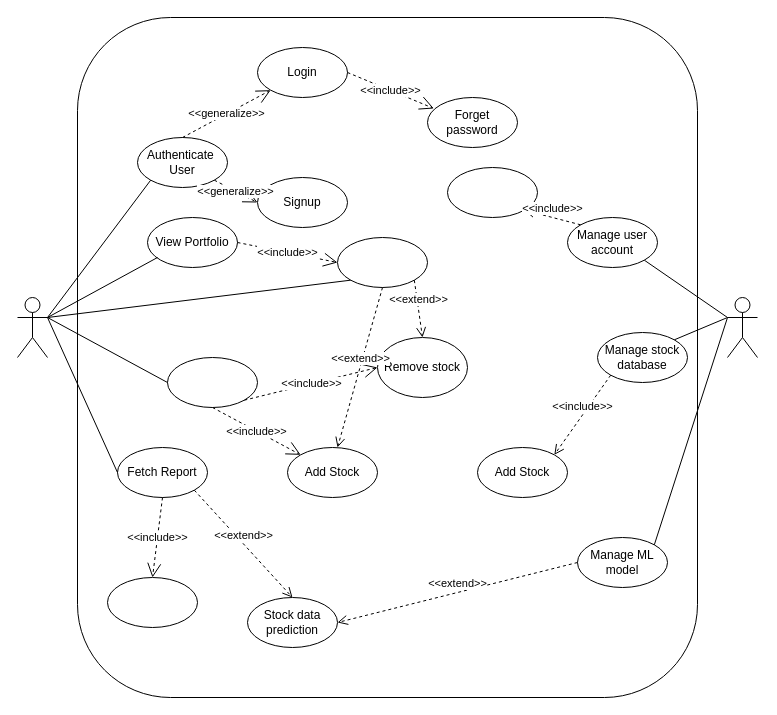
The diagram is 777 pixels wide and 715 high, and some of its shapes have lost their labels. Each missing label, with the centre of its shape:
Admin: [742,327]
Edit Stock: [212,382]
Remove user: [492,192]
User: [32,327]
View Report: [152,602]
View Stock data: [382,262]
